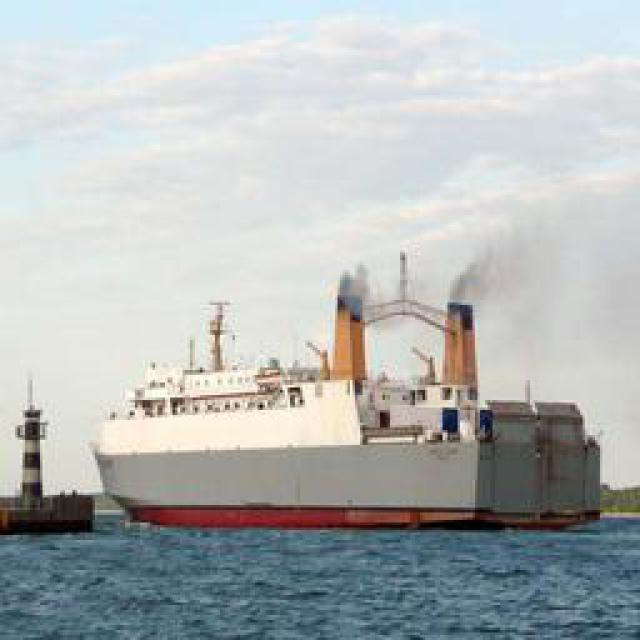Ship: (97, 309, 605, 529)
